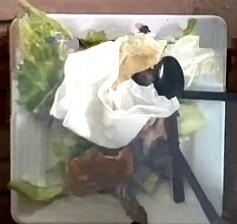burger: (67, 147, 132, 196)
fruit: (178, 100, 205, 136)
lettuce: (10, 1, 71, 115)
